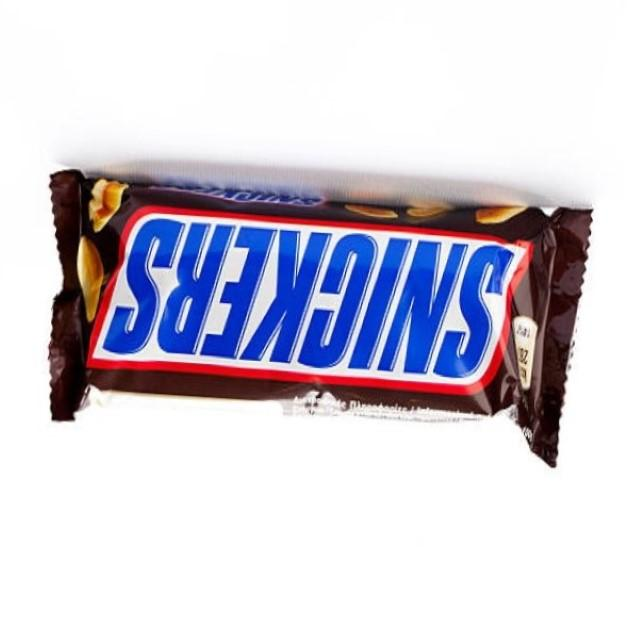snickers_chocolate: (48, 165, 570, 463)
